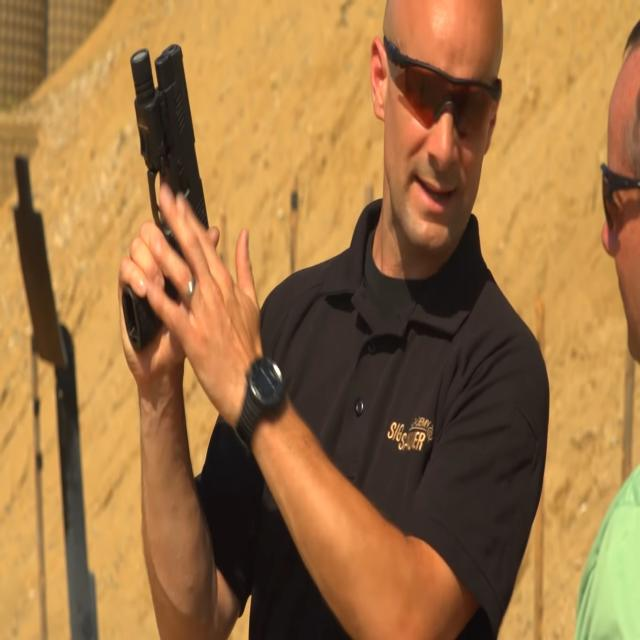Gun_Holder: (104, 54, 239, 360)
Person: (137, 0, 550, 640)
